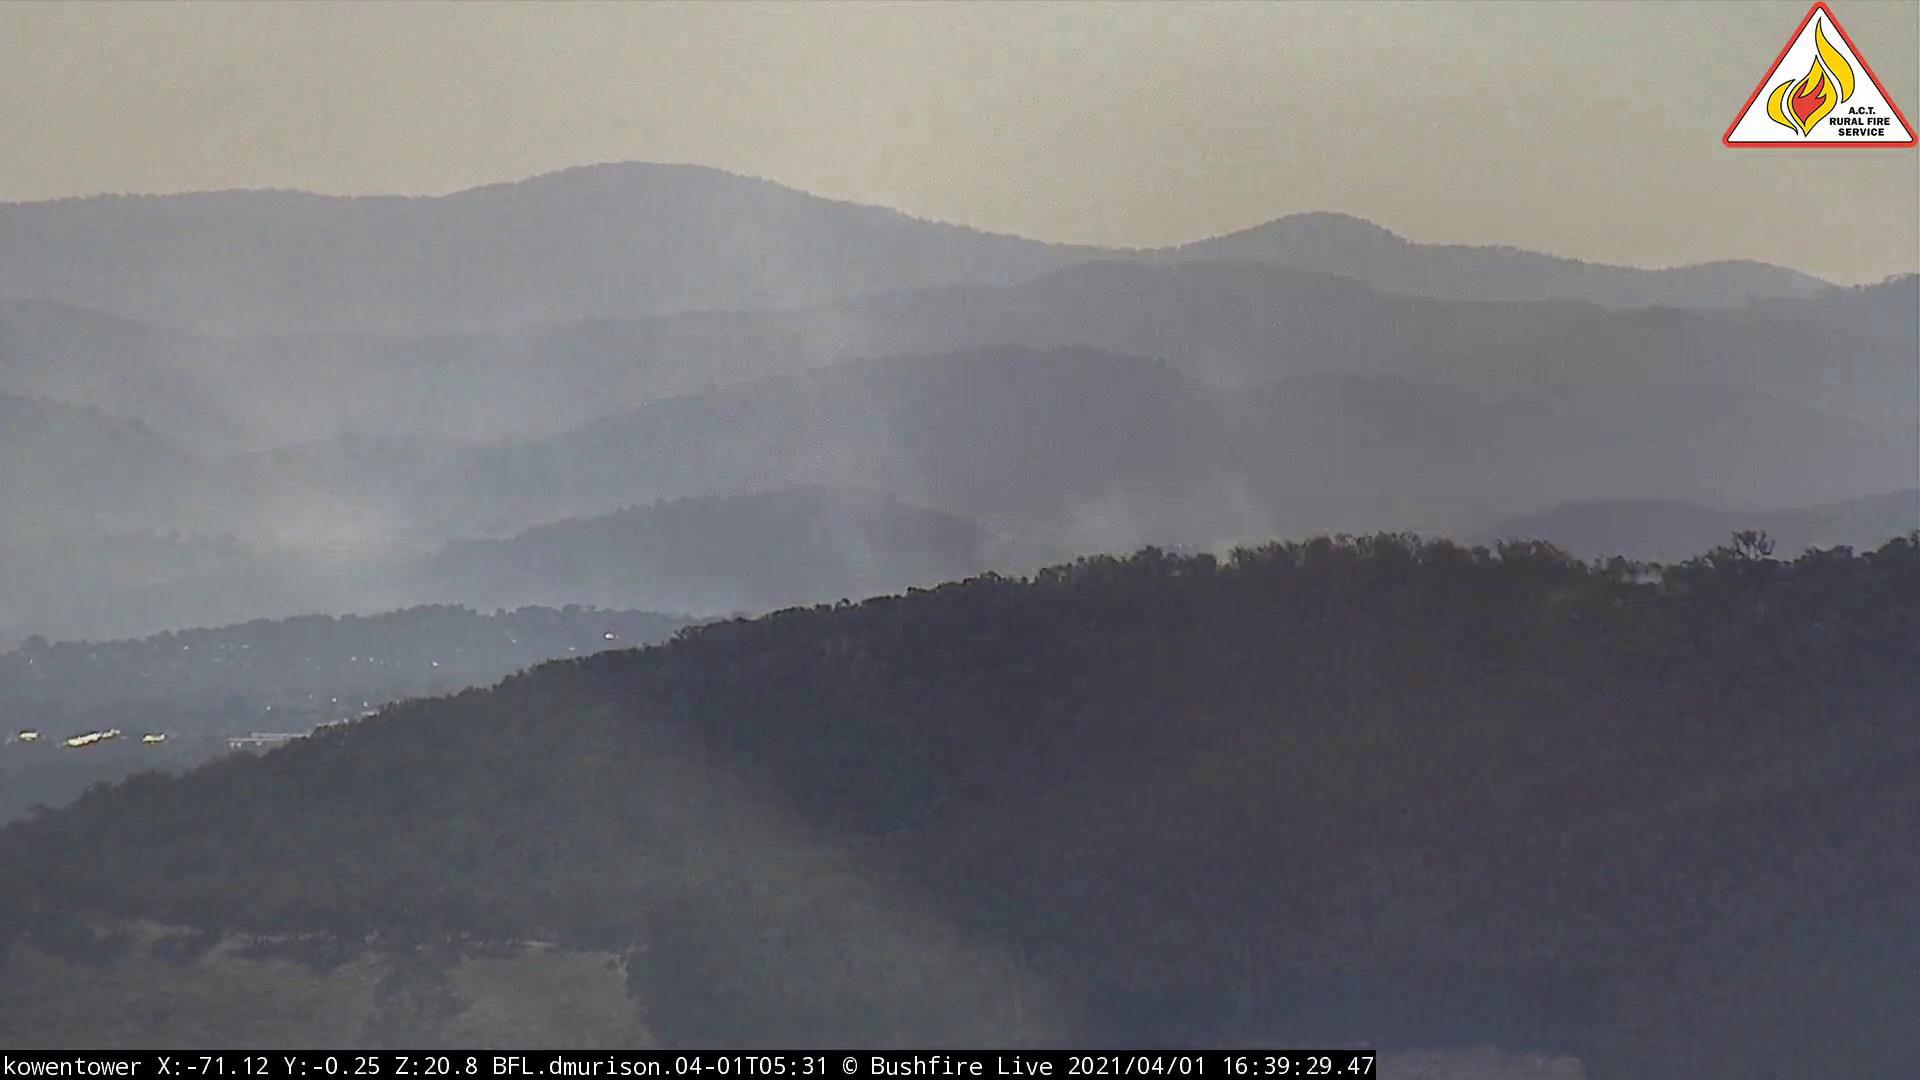Smoke: (723, 291, 1149, 605)
